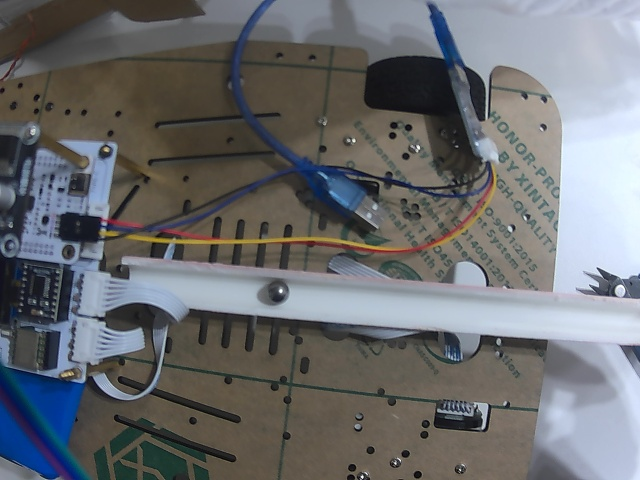steelball: (266, 282, 289, 303)
